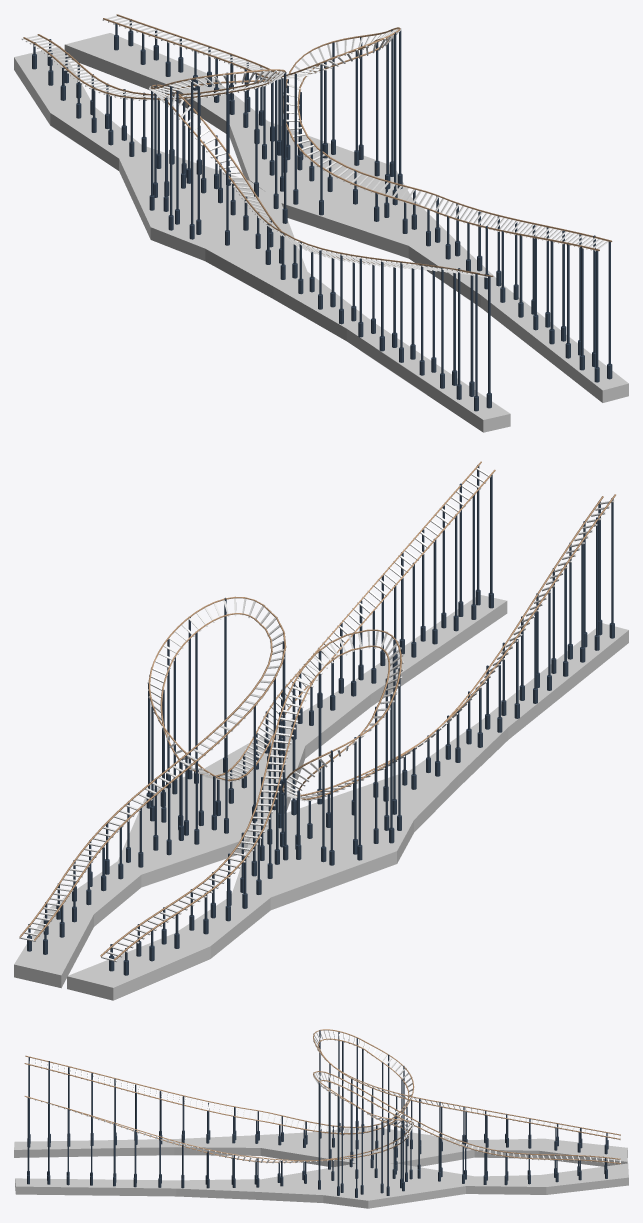
Rendered from RC_Playground_03.fbx.
3 views of the same model, one above another, from view 1: azimuth 30°, elevation 25°; view 2: azimuth 150°, elevation 25°; view 3: azimuth 270°, elevation 25° (orthographic). The views are drawn at different scales.
Visible parts, largest first — view 1: Platform.007, Platform.006, Columns.007, Columns.006, RailStep.006, RailStep.004, Path.006, Path.009; view 2: Platform.007, Platform.006, Columns.007, Columns.006, RailStep.006, RailStep.004, Path.009, Path.006; view 3: Platform.006, Platform.007, Columns.006, Columns.007, Path.009, Path.006, RailStep.004, RailStep.006.
Boxes of the visible parts, bbox=[...] form: Platform.007: bbox=[14, 46, 510, 432]; Platform.006: bbox=[64, 33, 628, 402]; Columns.007: bbox=[32, 39, 491, 411]; Columns.006: bbox=[114, 19, 612, 382]; RailStep.006: bbox=[102, 15, 608, 251]; RailStep.004: bbox=[21, 35, 487, 277]; Path.006: bbox=[103, 14, 612, 250]; Path.009: bbox=[23, 34, 493, 276]; Platform.007: bbox=[67, 623, 628, 1000]; Platform.006: bbox=[14, 595, 507, 988]; Columns.007: bbox=[109, 498, 614, 975]; Columns.006: bbox=[27, 465, 493, 954]; RailStep.006: bbox=[19, 467, 491, 941]; RailStep.004: bbox=[101, 500, 614, 961]; Path.009: bbox=[100, 494, 615, 960]; Path.006: bbox=[19, 461, 495, 940]; Platform.006: bbox=[15, 1163, 628, 1208]; Platform.007: bbox=[14, 1126, 627, 1167]; Columns.006: bbox=[27, 1074, 607, 1197]; Columns.007: bbox=[27, 1030, 608, 1160]; Path.009: bbox=[24, 1029, 620, 1139]; Path.006: bbox=[24, 1071, 620, 1163]; RailStep.004: bbox=[29, 1030, 620, 1140]; RailStep.006: bbox=[29, 1072, 620, 1164].
Size of the model in its own units: 3723 by 2704 by 12920.
